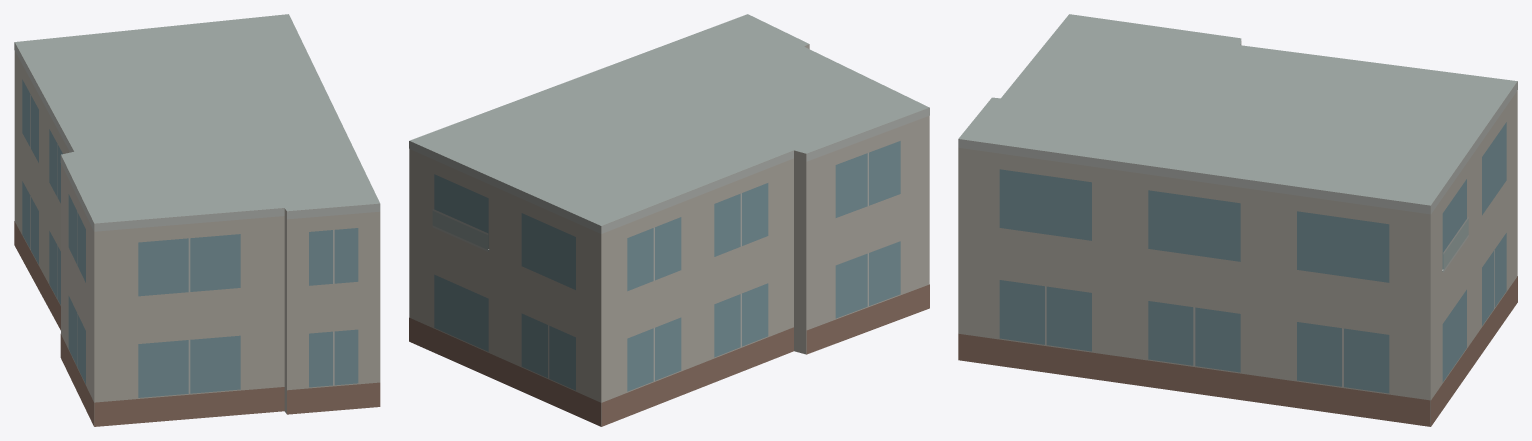
The model's file is survey-upis-33041000.glb.
3 views of the same model, side by side, from view 1: azimuth 30°, elevation 25°; view 2: azimuth 150°, elevation 25°; view 3: azimuth 270°, elevation 25° (orthographic). The views are drawn at different scales.
Visible parts, largest first — view 1: survey-upis-33041000.tmp; view 2: survey-upis-33041000.tmp; view 3: survey-upis-33041000.tmp.
Boxes of the visible parts, x1,y1,x2,y2 form: survey-upis-33041000.tmp: (14, 14, 380, 426); survey-upis-33041000.tmp: (409, 14, 929, 426); survey-upis-33041000.tmp: (958, 14, 1517, 426).
Bounding box in the file's own units: 11.34 × 6.1 × 13.99.
